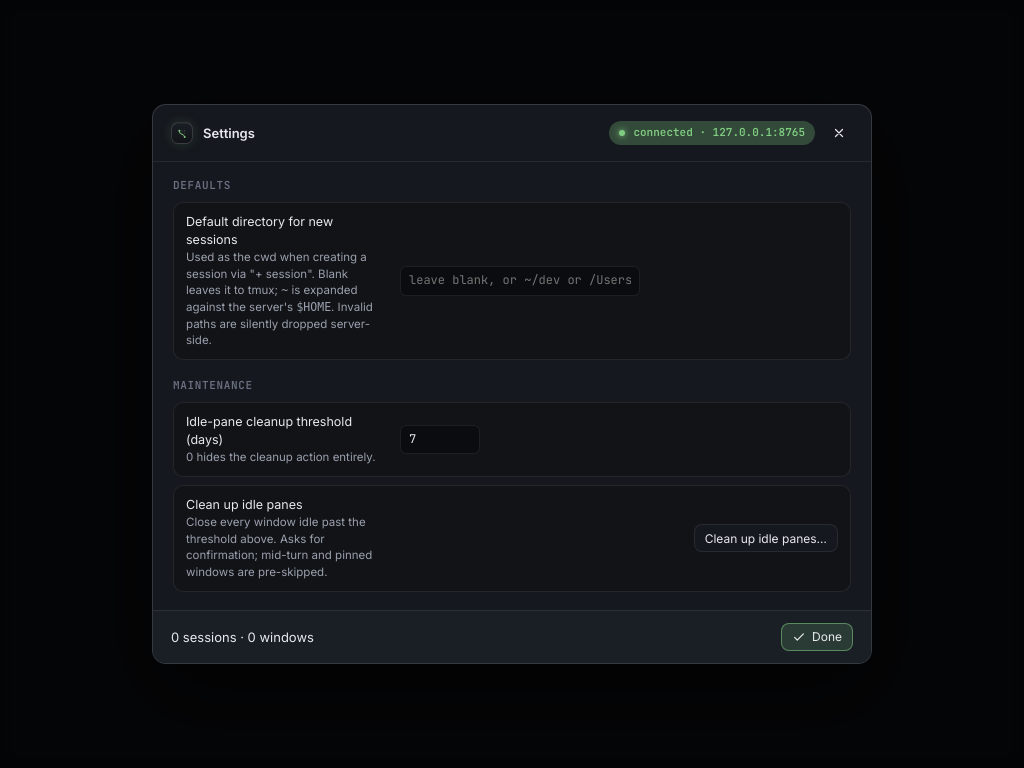
Test case: SettingsModal — Maintenance section › hides the action button when threshold is 0
The image size is (1024, 768).
(page scrolled)
Replace the text in the number field labelled "Idle-pane cleanup threshold (days)" with "0": (440, 439) [400,425,480,454]
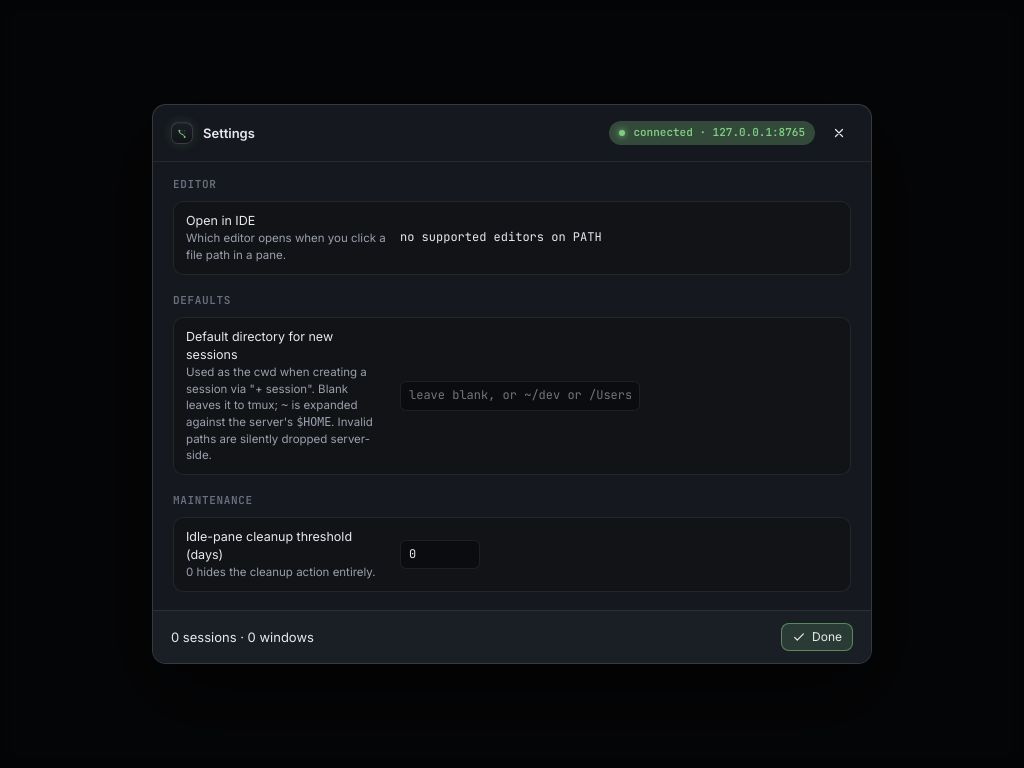
Result: the text "Clean up idle panes" is gone
